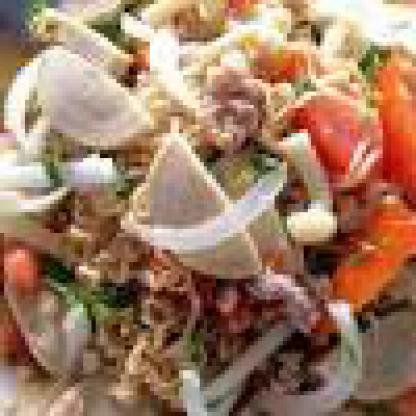Yum: (1, 4, 415, 413)
